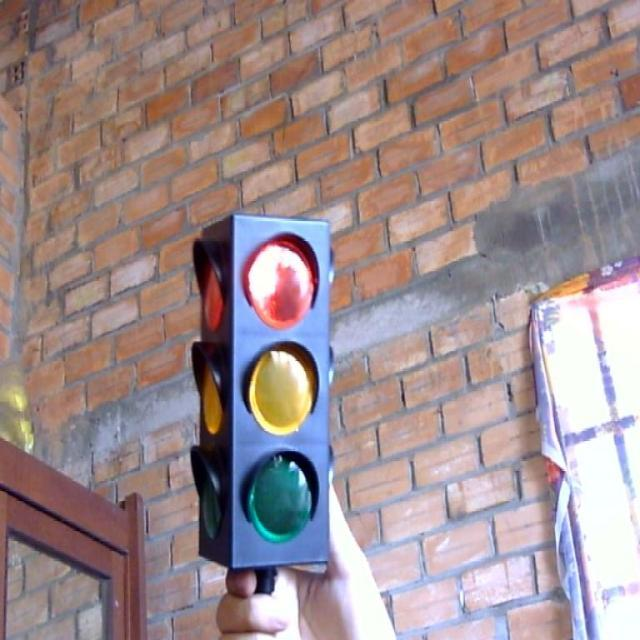red light: (235, 219, 328, 343)
